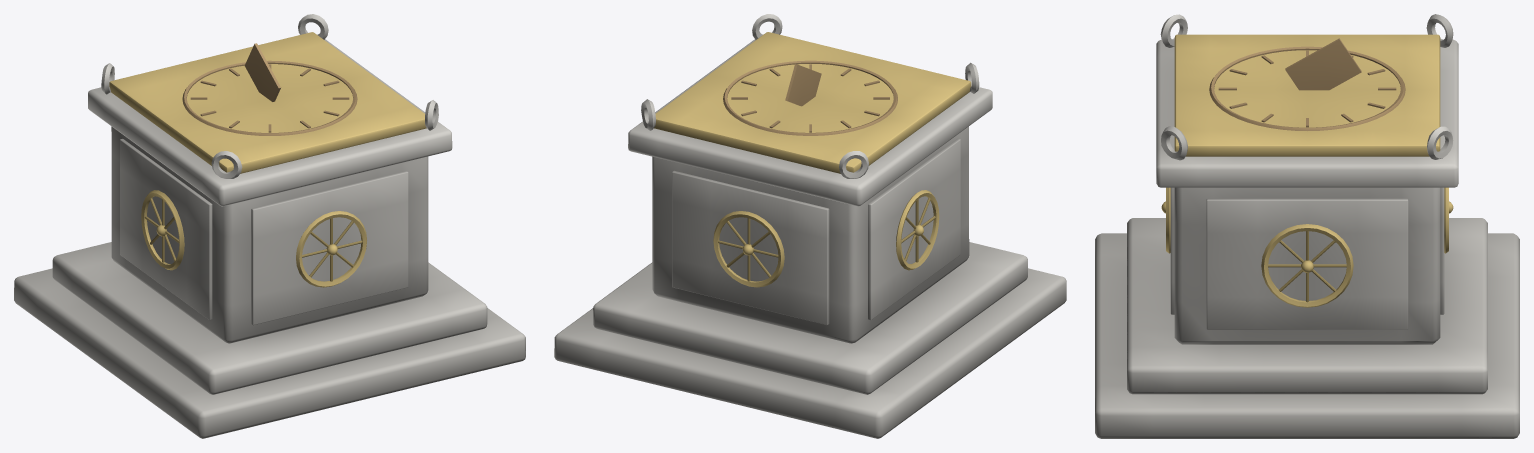
File: obj_kit_timealtar.glb
The picture shows the model from 3 angles, left to right: view 1: azimuth 30°, elevation 25°; view 2: azimuth 150°, elevation 25°; view 3: azimuth 270°, elevation 25°; orthographic projection. The views are drawn at different scales.
Parts seen in each view (by area): view 1: Cube.008, Cube, Cube.001, Cube.007, Cube.002, Cube.003, Cube.006, Torus.008, Torus.003, Cube.021, Torus.002, Torus.004; view 2: Cube.008, Cube, Cube.001, Cube.005, Cube.002, Cube.003, Cube.006, Torus.008, Torus.001, Torus.002, Cube.021, Torus.005; view 3: Cube, Cube.001, Cube.008, Cube.004, Cube.002, Cube.003, Cube.021, Torus, Torus.008, Cube.005, Cube.007, Torus.006 (+3 smaller).
Boxes of the visible parts, <box> form: Cube.008: <box>109,32,426,173</box>; Cube: <box>14,268,525,438</box>; Cube.001: <box>52,242,487,394</box>; Cube.007: <box>251,171,408,325</box>; Cube.002: <box>111,126,428,343</box>; Cube.003: <box>88,39,452,206</box>; Cube.006: <box>120,138,212,320</box>; Torus.008: <box>182,60,357,135</box>; Torus.003: <box>296,211,366,287</box>; Cube.021: <box>244,43,280,101</box>; Torus.002: <box>141,190,184,270</box>; Torus.004: <box>211,151,242,178</box>; Cube.008: <box>654,32,971,173</box>; Cube: <box>554,268,1066,438</box>; Cube.001: <box>593,242,1027,394</box>; Cube.005: <box>672,170,829,324</box>; Cube.002: <box>652,126,969,343</box>; Cube.003: <box>628,39,992,206</box>; Cube.006: <box>868,138,960,320</box>; Torus.008: <box>723,60,897,135</box>; Torus.001: <box>713,211,784,287</box>; Torus.002: <box>896,190,939,270</box>; Cube.021: <box>785,64,821,106</box>; Torus.005: <box>839,151,868,178</box>; Cube: <box>1095,233,1519,438</box>; Cube.001: <box>1127,218,1487,394</box>; Cube.008: <box>1174,34,1440,156</box>; Cube.004: <box>1206,198,1408,329</box>; Cube.002: <box>1174,187,1440,344</box>; Cube.003: <box>1156,39,1458,187</box>; Cube.021: <box>1285,38,1361,90</box>; Torus: <box>1261,224,1353,307</box>; Torus.008: <box>1209,46,1405,130</box>; Cube.005: <box>1440,187,1444,314</box>; Cube.007: <box>1170,187,1174,314</box>; Torus.006: <box>1161,126,1187,160</box>.
Bounding box in the file's own units: 1.6 × 1.3 × 1.6.
